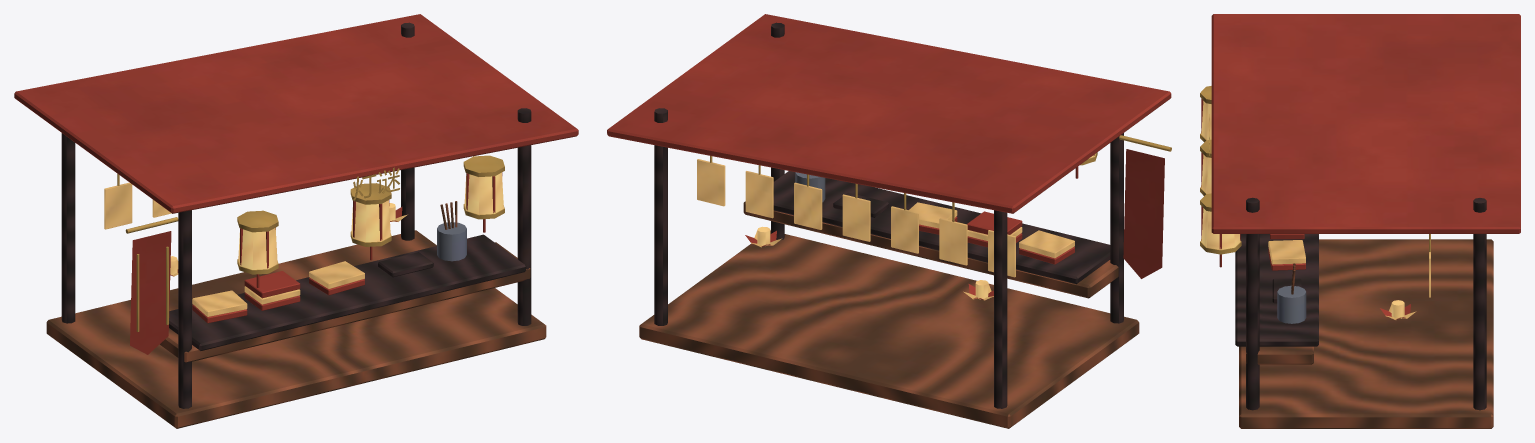
File: model-stall-riddle.glb
The picture shows the model from 3 angles, left to right: view 1: azimuth 30°, elevation 25°; view 2: azimuth 150°, elevation 25°; view 3: azimuth 270°, elevation 25°; orthographic projection. The views are drawn at different scales.
Visible parts, largest first — view 1: model-stall-riddle; view 2: model-stall-riddle; view 3: model-stall-riddle.
Part boxes in pixels (x1,y1,x2,y2): model-stall-riddle: (14, 14, 578, 428); model-stall-riddle: (607, 14, 1171, 428); model-stall-riddle: (1200, 14, 1520, 428).
Size of the model in its own units: 5.32 by 2.81 by 3.53.
Materials: 7 (7 with a texture image).
